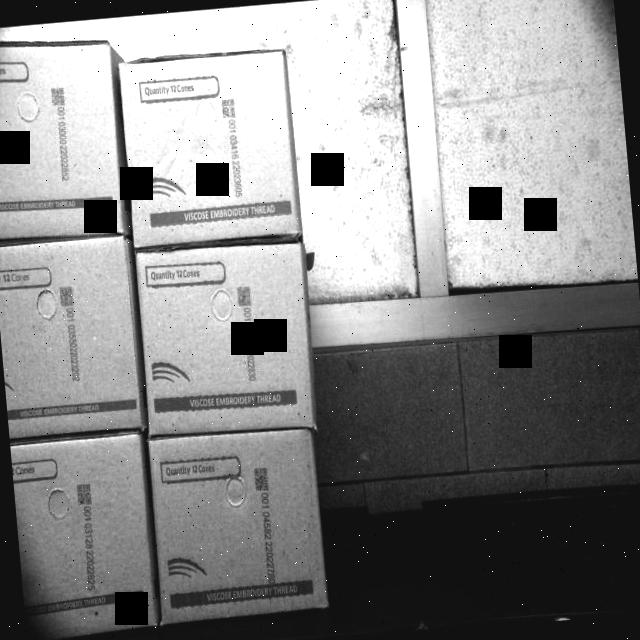box: (119, 48, 300, 246), (134, 238, 314, 437), (148, 420, 326, 618), (9, 431, 158, 635), (0, 239, 146, 441), (0, 25, 121, 246)
